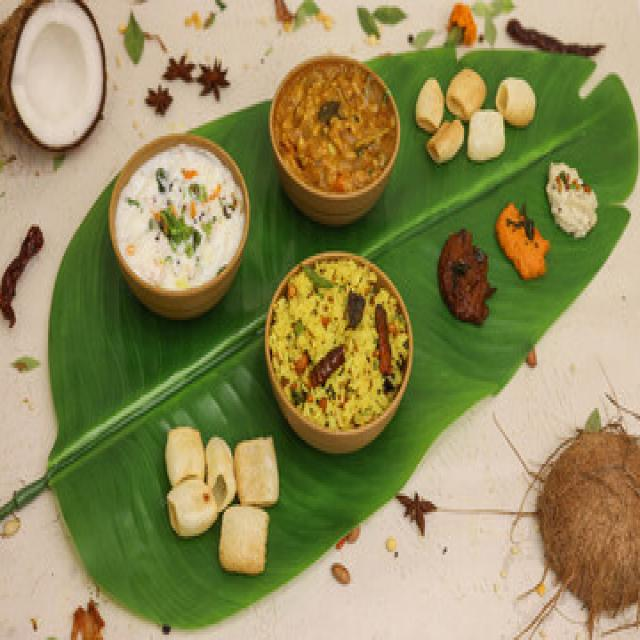CURD: (119, 147, 244, 280)
DAL: (281, 70, 391, 186)
PAPADAM: (165, 420, 281, 580), (411, 63, 535, 165)
RED CHUTNEY: (437, 234, 491, 327), (494, 206, 547, 272)
RICE: (277, 263, 405, 429)
WHITE CHUTNEY: (550, 166, 598, 231)
